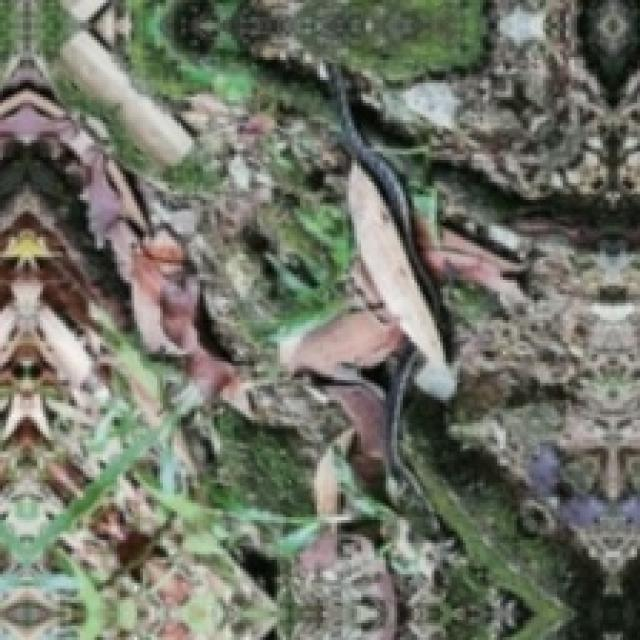king cobra: (237, 0, 454, 489)
